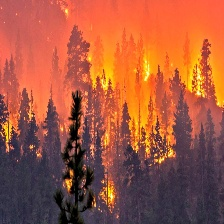fire: (185, 59, 208, 101), (149, 139, 178, 165), (93, 67, 116, 91), (138, 50, 154, 81), (104, 179, 118, 205), (60, 5, 73, 20)
smoke: (6, 5, 64, 108)
